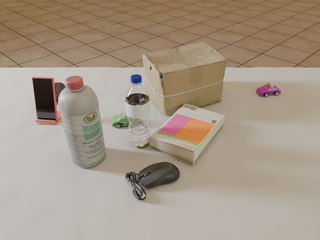book: (149, 104, 225, 166)
bottle: (58, 76, 106, 167), (125, 75, 151, 147)
box: (143, 42, 227, 115)
mouse: (126, 162, 180, 200), (54, 82, 66, 102)
phone: (32, 77, 58, 121)
toy_car: (256, 82, 281, 97), (112, 111, 129, 128)
